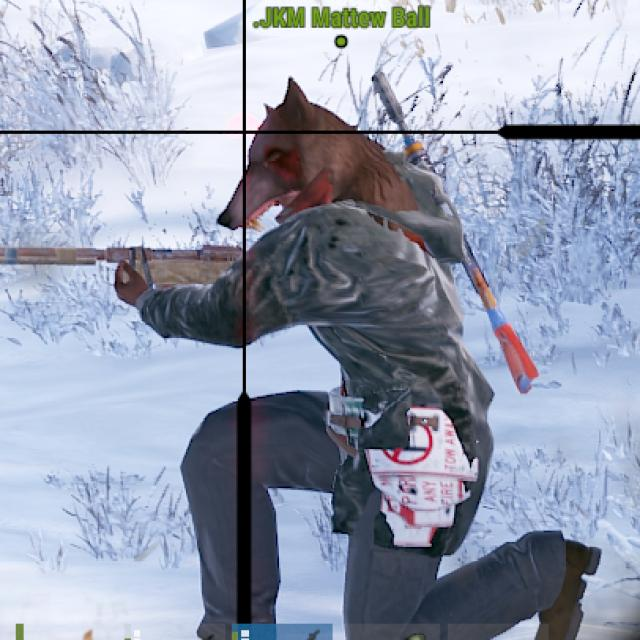Player: (176, 76, 524, 640)
